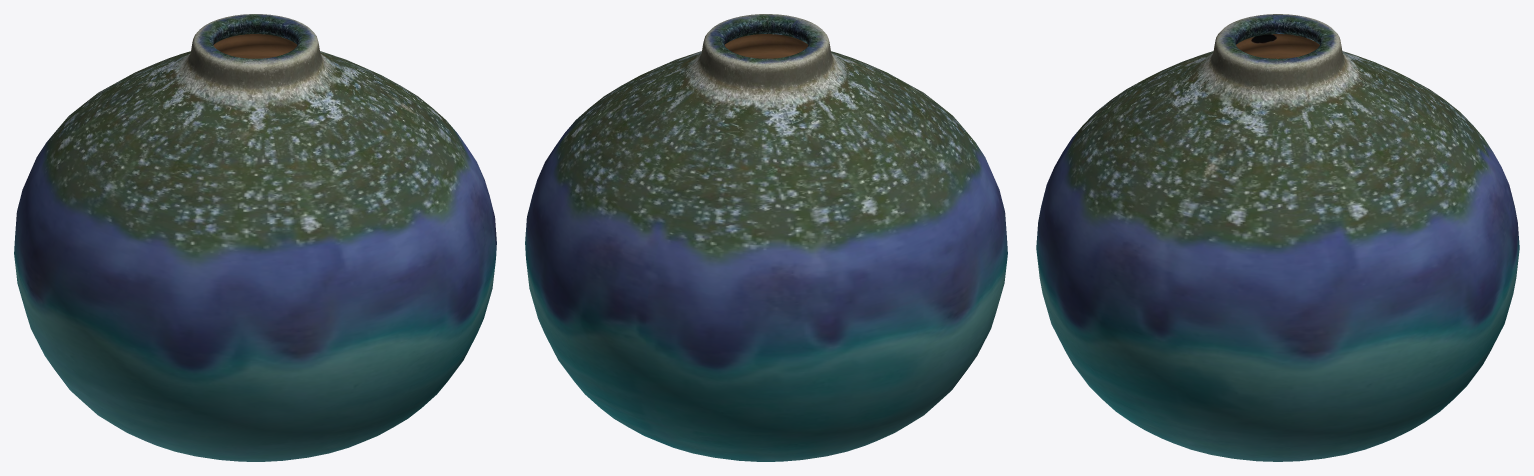
Rendered from B078JGRLCJ.glb.
The picture shows the model from 3 angles, left to right: view 1: azimuth 30°, elevation 25°; view 2: azimuth 150°, elevation 25°; view 3: azimuth 270°, elevation 25°; orthographic projection.
Parts seen in each view (by area): view 1: RootNode; view 2: RootNode; view 3: RootNode.
Part boxes in pixels (x1,y1,x2,y2): RootNode: (14,14,496,461); RootNode: (525,14,1007,461); RootNode: (1036,14,1519,461).
Size of the model in its own units: 0.1539 by 0.1332 by 0.1539.
Materials: 1 (1 with a texture image).
